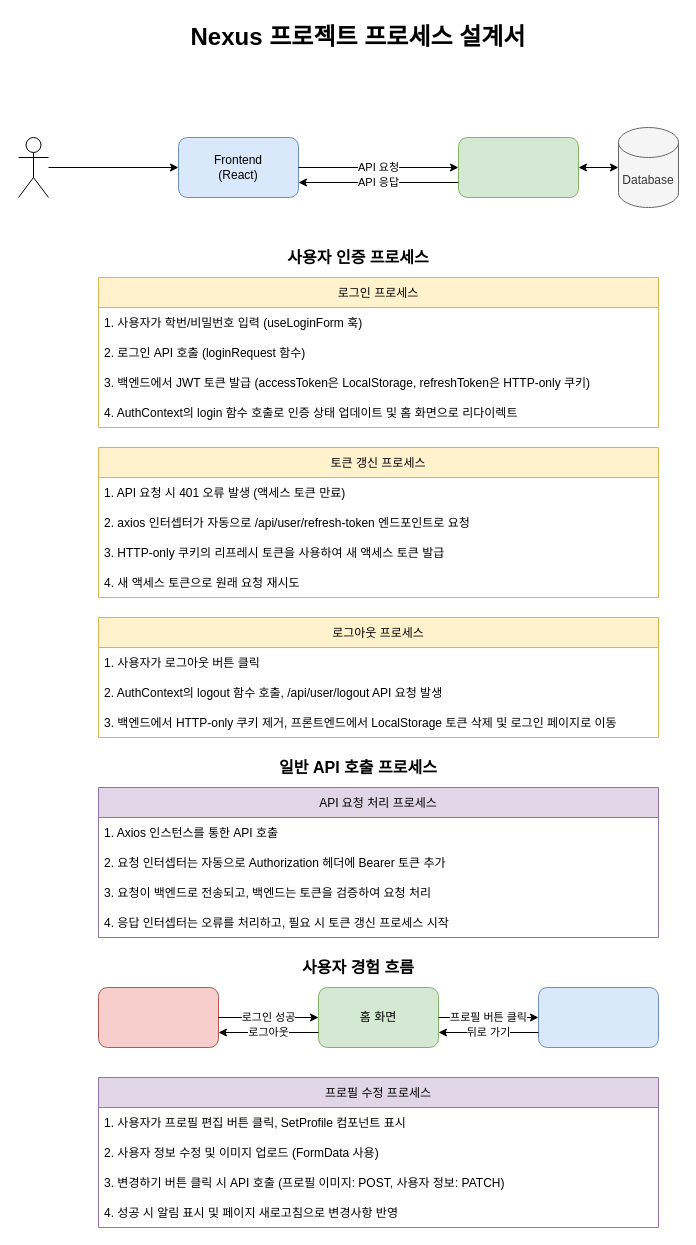
This 696x1245 diagram has some shape labels left out. Each missing label, with the centre of its shape:
"Backend (API 서버)" goes at [518,167].
"로그인 화면" goes at [158,1017].
"사용자" goes at [33,167].
"프로필 화면" goes at [598,1017].
